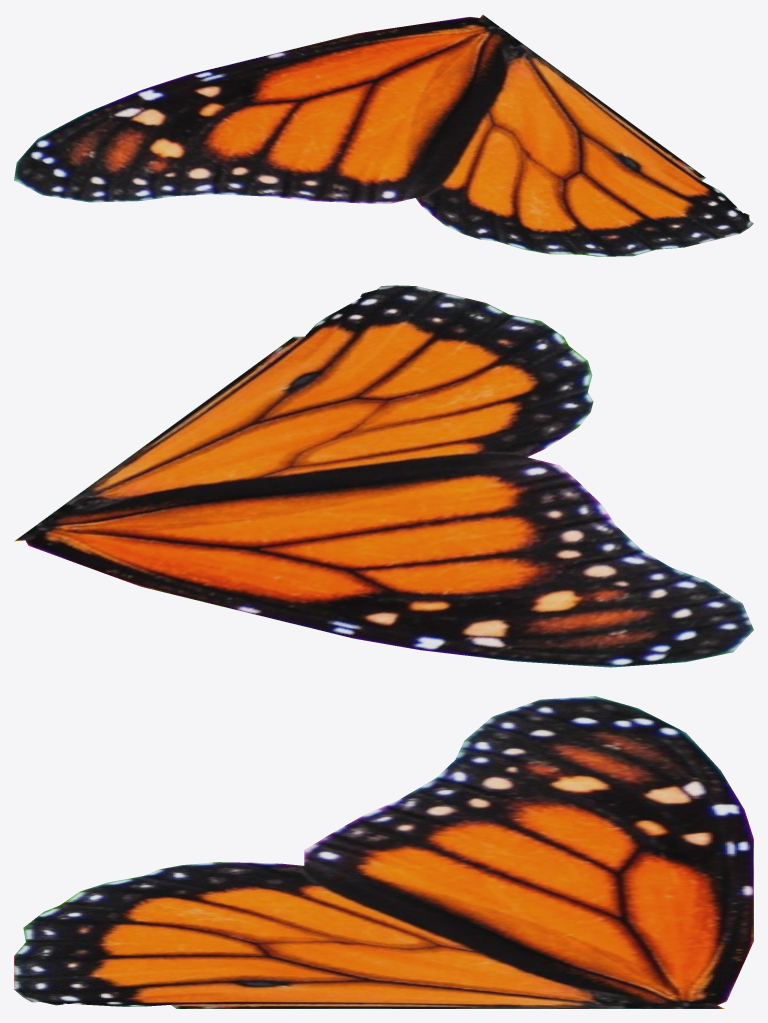
The model's file is butterfly_wing_textured.glb.
The picture shows the model from 3 angles, top to bottom: view 1: azimuth 30°, elevation 25°; view 2: azimuth 150°, elevation 25°; view 3: azimuth 270°, elevation 25°; orthographic projection. The views are drawn at different scales.
Parts seen in each view (by area): view 1: Plane; view 2: Plane; view 3: Plane.
Part boxes in pixels (left/top/right/bottom): Plane: left=14, top=14, right=753, bottom=256; Plane: left=14, top=285, right=753, bottom=667; Plane: left=14, top=696, right=753, bottom=1008.
Size of the model in its own units: 0.2488 by 0 by 0.2488.
Materials: 1 (1 with a texture image).
